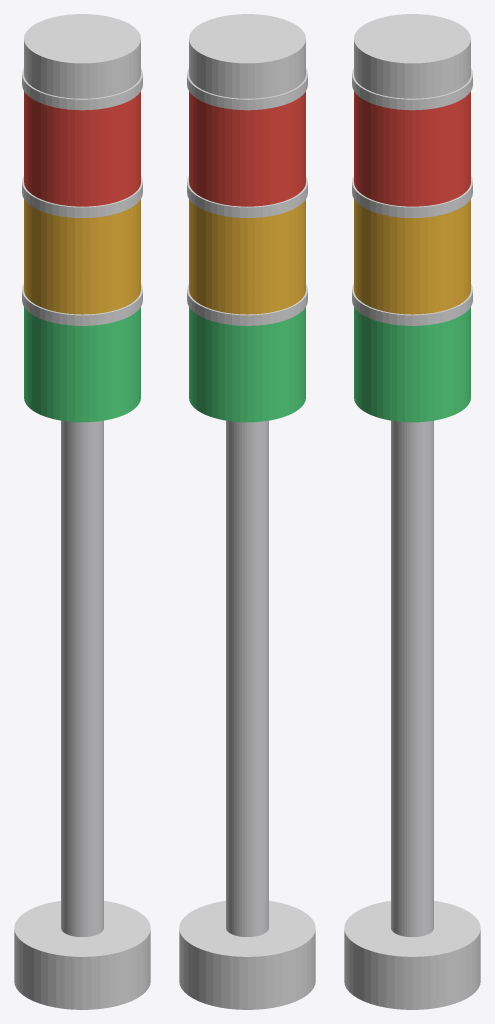
The model's file is bari_signal_tower.fbx.
3 views of the same model, side by side, from view 1: azimuth 30°, elevation 25°; view 2: azimuth 150°, elevation 25°; view 3: azimuth 270°, elevation 25° (orthographic).
Parts seen in each view (by area): view 1: TowerPole, TowerBase, LampAmber, LampGreen, LampRed, TowerCap, LampRedRing, LampAmberRing, LampGreenRing; view 2: TowerPole, TowerBase, LampAmber, LampGreen, LampRed, TowerCap, LampRedRing, LampAmberRing, LampGreenRing; view 3: TowerPole, TowerBase, LampAmber, LampGreen, LampRed, TowerCap, LampRedRing, LampAmberRing, LampGreenRing.
Boxes of the visible parts, x1,y1,x2,y2 form: TowerPole: (61,420,103,936); TowerBase: (14,901,150,1009); LampAmber: (24,199,140,314); LampGreen: (24,307,140,422); LampRed: (24,91,140,206); TowerCap: (24,14,140,98); LampRedRing: (22,68,142,110); LampAmberRing: (22,176,142,217); LampGreenRing: (22,284,142,325); TowerPole: (226,420,268,936); TowerBase: (179,901,315,1009); LampAmber: (189,199,305,314); LampGreen: (189,307,305,422); LampRed: (189,91,305,206); TowerCap: (189,14,305,98); LampRedRing: (187,68,307,110); LampAmberRing: (187,176,307,217); LampGreenRing: (187,284,307,325); TowerPole: (391,420,433,936); TowerBase: (344,901,480,1009); LampAmber: (354,199,470,314); LampGreen: (354,307,470,422); LampRed: (354,91,470,206); TowerCap: (354,14,470,98); LampRedRing: (352,68,472,110); LampAmberRing: (352,176,472,217); LampGreenRing: (352,284,472,325).
Bounding box in the file's own units: 0.07 × 0.533 × 0.07.
